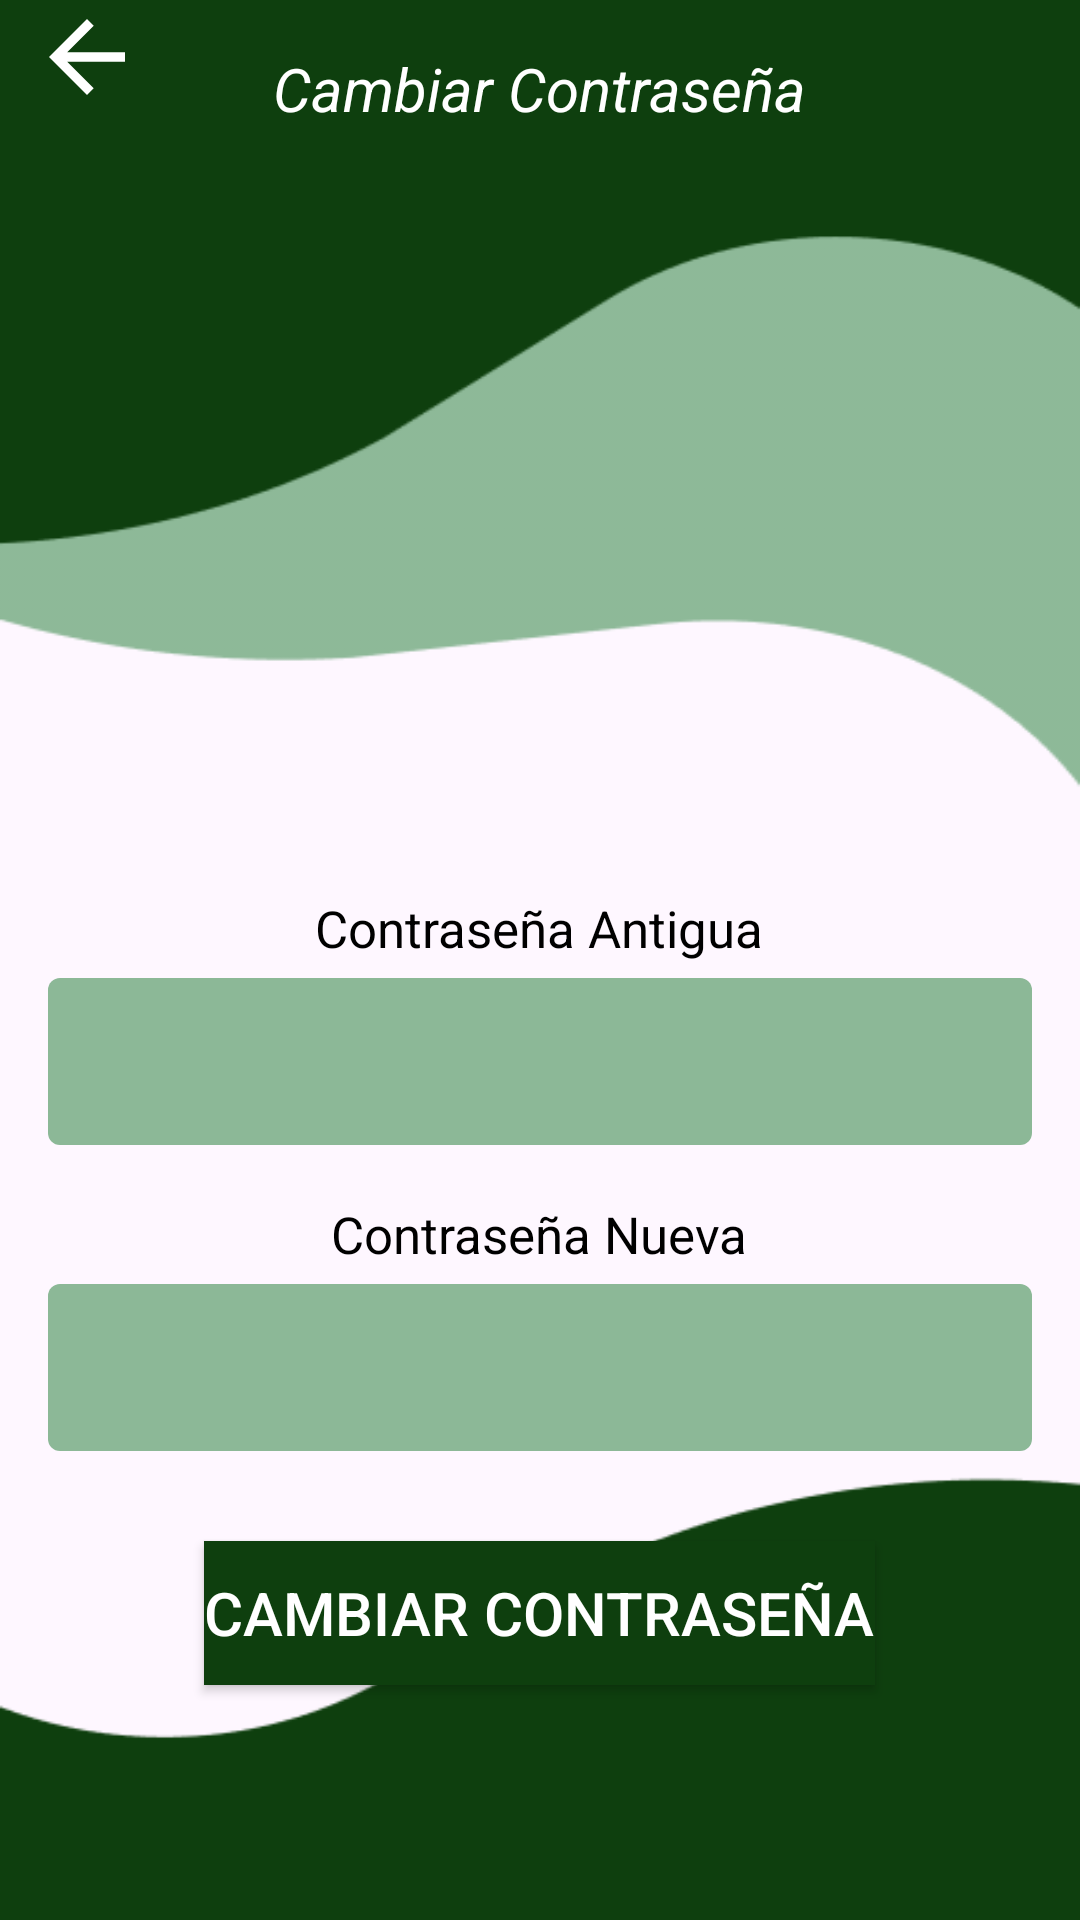

Icon click points for this 1080*1920 phone screenshot, format [x,y]:
arrow back: [87,57]
